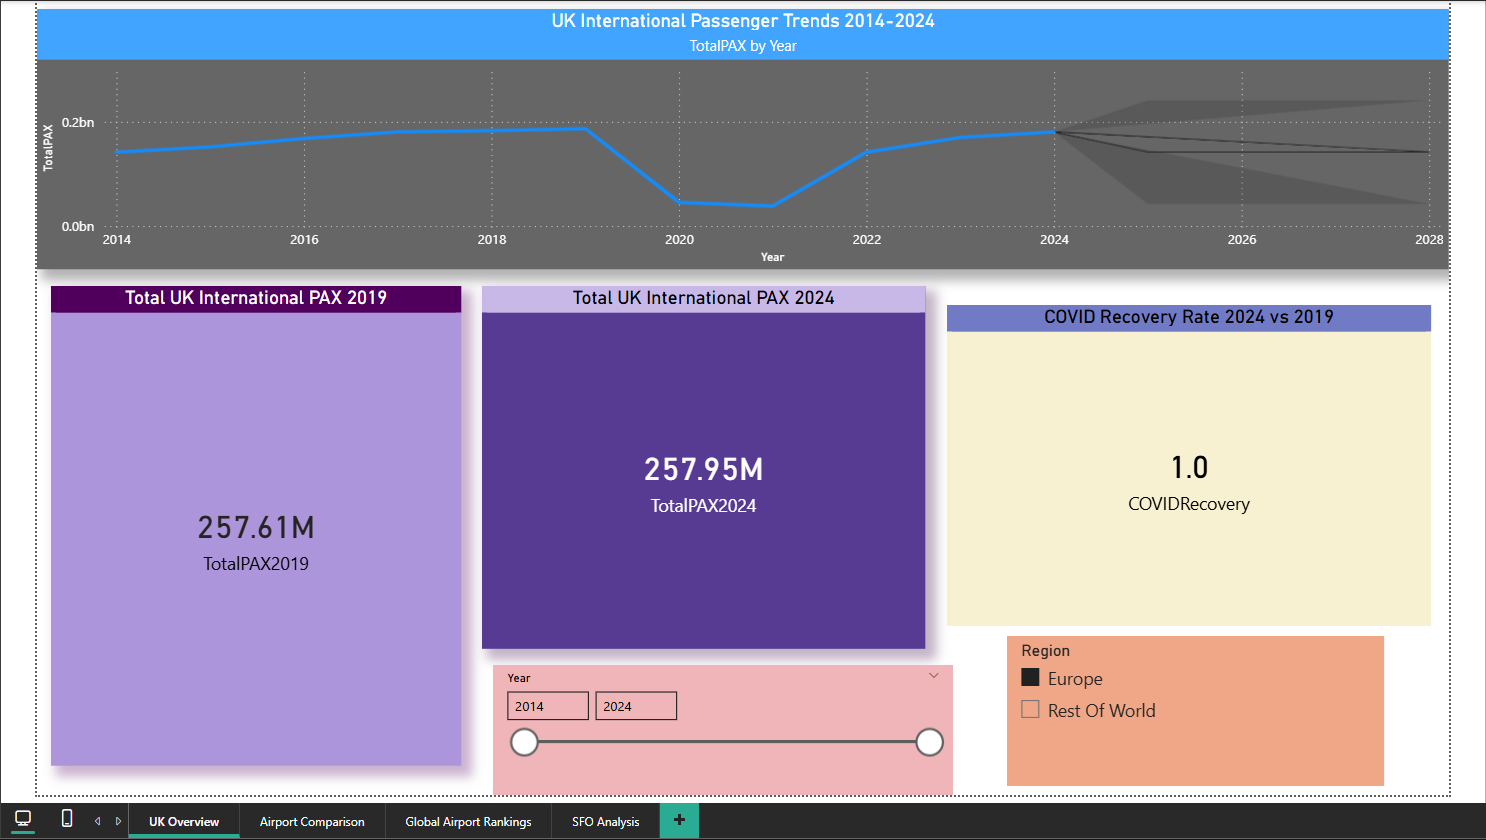

Layout of this report page (visuals, bound fields, positions):
{"tool":"powerbi","page":{"name":"UK Overview","canvas":[1280,720],"ordinal":0},"visuals":[{"type":"lineChart","title":"UK International Passenger Trends 2014-2024","fields":{"Category":["AVI0105.Year"],"Y":["AVI0105.TotalPAX"]},"box":[0,7.3,1280.4,235.8],"z":0},{"type":"card","title":"Total UK International PAX 2024","fields":{"Values":["AVI0105.TotalPAX2024"]},"box":[403.5,258.4,401.7,329.2],"z":1000},{"type":"card","title":"Total UK International PAX 2019","fields":{"Values":["AVI0105.TotalPAX2019"]},"box":[12.7,258.4,371.8,435.3],"z":2000},{"type":"card","title":"COVID Recovery Rate 2024 vs 2019","fields":{"Values":["AVI0105.COVIDRecovery"]},"box":[825.2,275.7,438.9,291.1],"z":3000},{"type":"slicer","fields":{"Values":["YearTable.Year"]},"box":[413.5,602.1,417.1,117.9],"z":4000},{"type":"slicer","fields":{"Values":["AVI0105.Region"]},"box":[879.6,575.8,341.9,136],"z":5000}]}

Visuals, with their boxes on the page's 1280x720 design canvas (x1, y1, x2, y2). These are canvas units, not pixel positions in the 1486x840 screenshot, which may show the page scaled, cropped or inside an application window:
"UK International Passenger Trends 2014-2024" lineChart: bbox=[0, 7, 1280, 243]
"Total UK International PAX 2024" card: bbox=[404, 258, 805, 588]
"Total UK International PAX 2019" card: bbox=[13, 258, 384, 694]
"COVID Recovery Rate 2024 vs 2019" card: bbox=[825, 276, 1264, 567]
slicer - YearTable.Year: bbox=[414, 602, 831, 720]
slicer - AVI0105.Region: bbox=[880, 576, 1222, 712]
